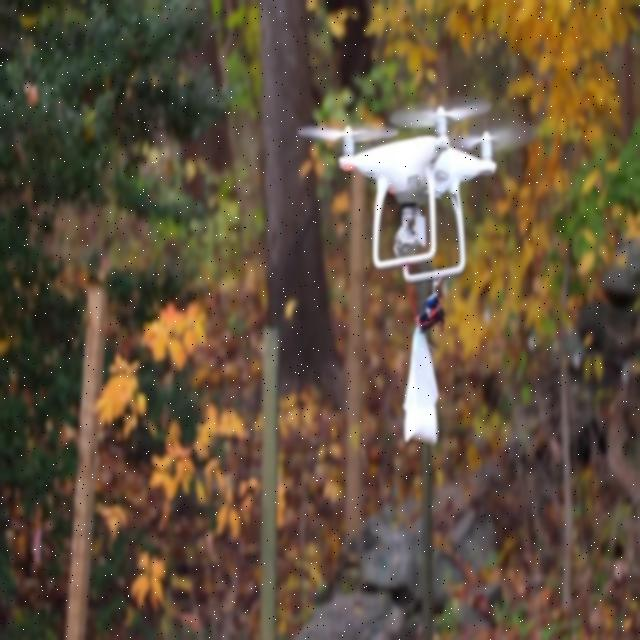UAV: (296, 99, 536, 284)
